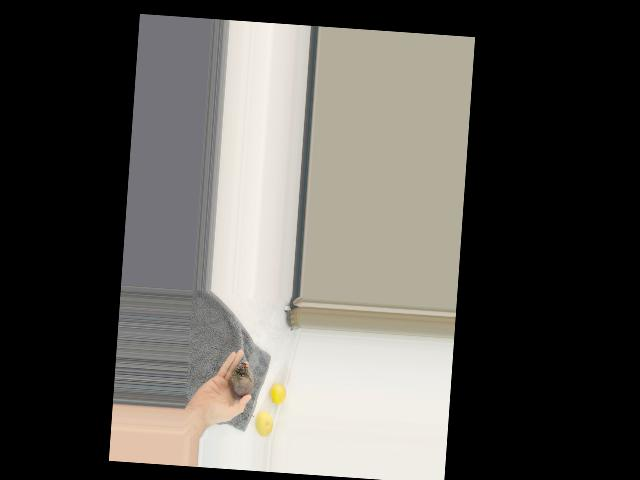beet: (226, 361, 257, 417)
